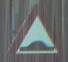Speed Breaker ahead: (7, 2, 59, 55)
